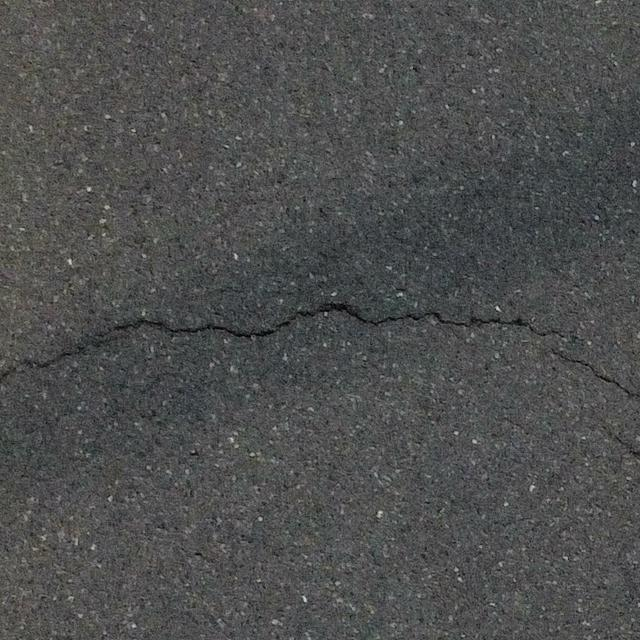TransverseCrack: (1, 302, 570, 382), (551, 346, 635, 397)
